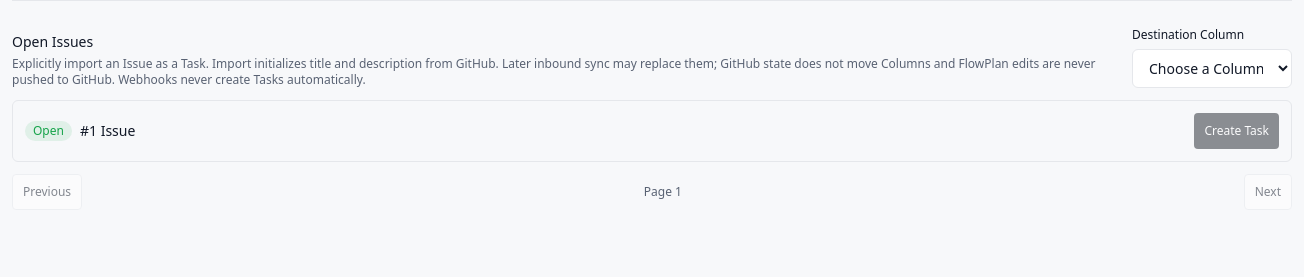
Test: GitHub import requires an explicit valid destination and sends only existing contract fields
The image size is (1304, 277).
Expected: the button "Create Task" is disabled, [1194, 113, 1279, 149]
Select "Backlog" in the dropdown labelled "Destination Column" at (1212, 68), box [1132, 49, 1292, 88]
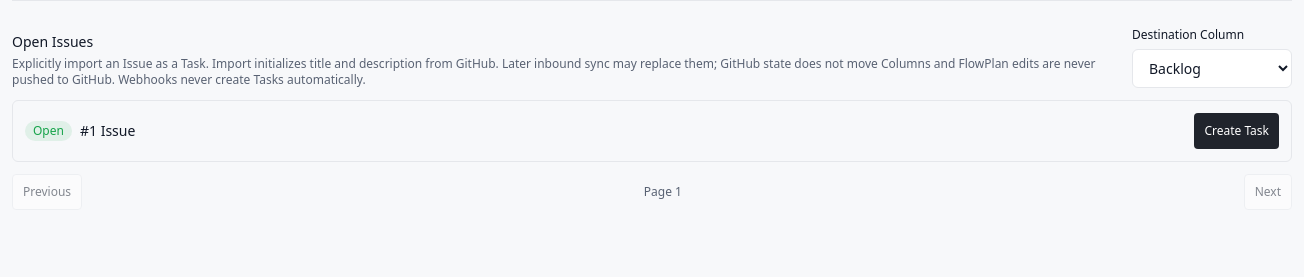
Click the button "Create Task".
click(1237, 131)  # box [1194, 113, 1279, 149]
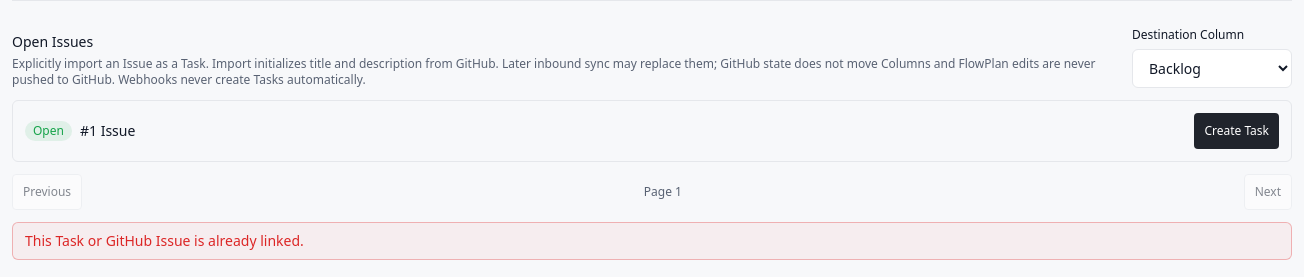
Now the message "This Task or GitHub Issue is already linked." is shown, box [12, 222, 1292, 260]
